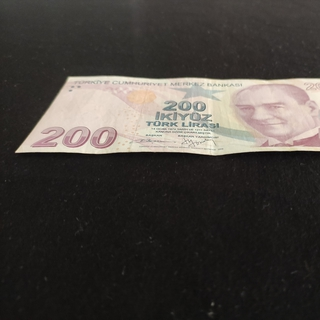200TLFront: (13, 75, 320, 156)
